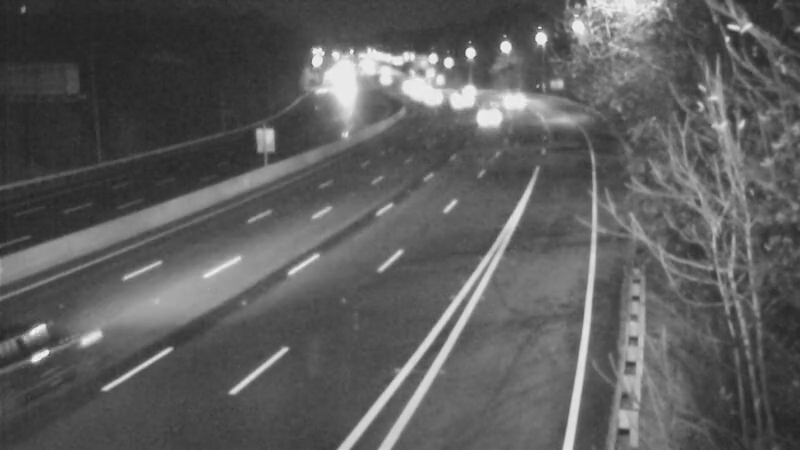vehicle: (1, 314, 101, 424), (445, 62, 495, 112), (433, 78, 483, 128), (481, 72, 531, 122), (462, 86, 512, 136)
